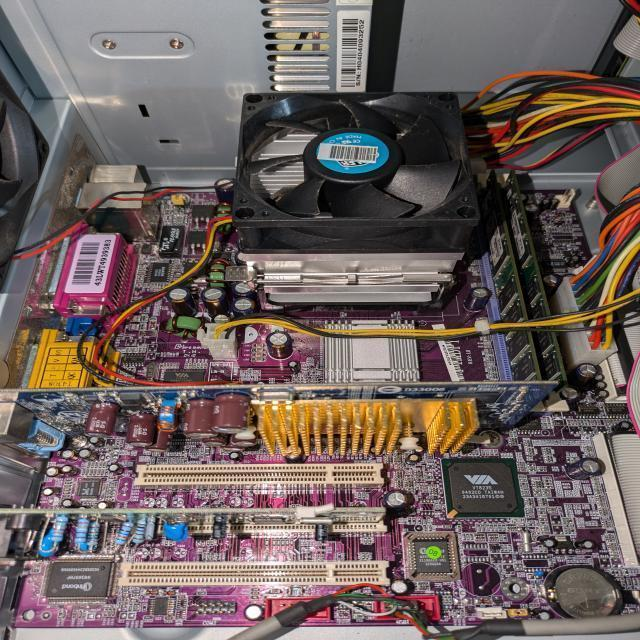CPU_Fan: (234, 93, 477, 304)
Mainboard: (10, 186, 640, 628)
PSU: (33, 0, 371, 167)
RAM: (500, 174, 564, 380), (480, 172, 540, 380)
